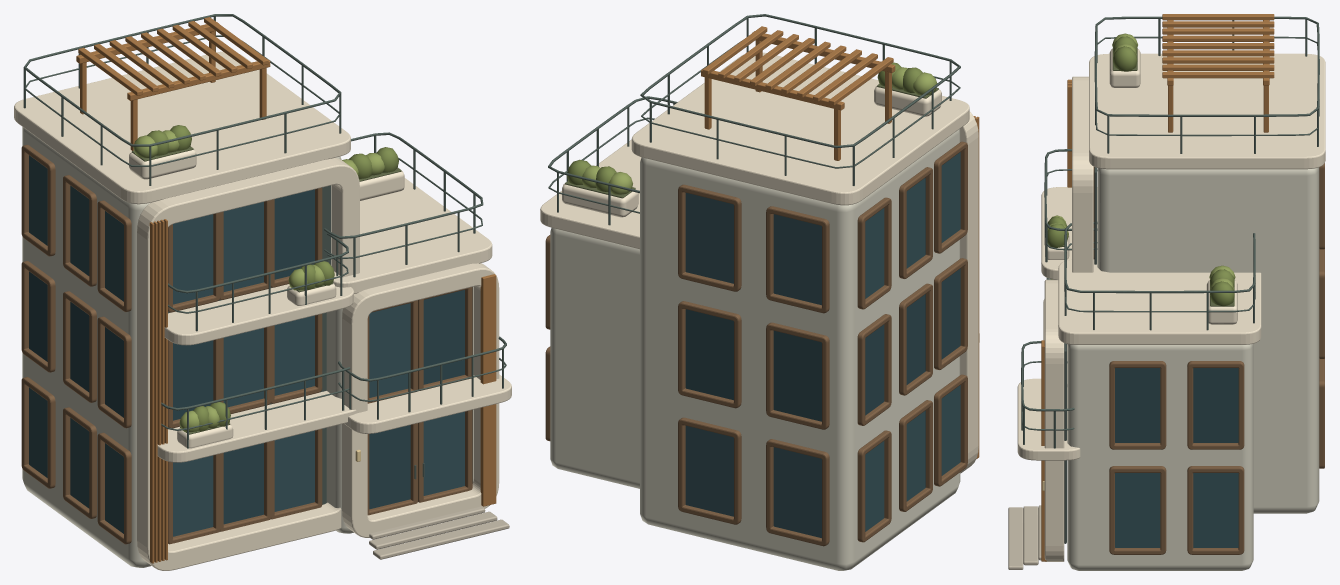
File: harbor-building.glb
The picture shows the model from 3 angles, left to right: view 1: azimuth 30°, elevation 25°; view 2: azimuth 150°, elevation 25°; view 3: azimuth 270°, elevation 25°; orthographic projection. The views are drawn at different scales.
Visible parts, largest first — view 1: building-trim, building-window-lit, building-darkWood, building-window-dark, building-wood, building-plaster, building-rail, building-step, building-leaf, building-leafLight, building-inset; view 2: building-plaster, building-trim, building-darkWood, building-window-lit, building-window-dark, building-wood, building-rail, building-leafLight, building-leaf; view 3: building-plaster, building-trim, building-darkWood, building-wood, building-window-lit, building-window-dark, building-rail, building-step, building-leaf, building-inset, building-leafLight.
Part boxes in pixels (x1,y1,x2,y2): building-trim: (14, 51, 511, 570); building-window-lit: (29, 155, 464, 536); building-darkWood: (21, 144, 472, 544); building-window-dark: (29, 189, 464, 524); building-wood: (76, 17, 496, 563); building-plaster: (22, 127, 473, 567); building-rail: (23, 14, 506, 479); building-step: (369, 506, 509, 559); building-leaf: (147, 125, 398, 431); building-leafLight: (133, 130, 384, 432); building-inset: (168, 185, 472, 504); building-plaster: (550, 129, 960, 570); building-trim: (540, 52, 979, 473); building-darkWood: (545, 141, 967, 546); building-window-lit: (685, 152, 960, 538); building-window-dark: (685, 268, 960, 421); building-wood: (701, 26, 979, 458); building-rail: (548, 14, 960, 225); building-leafLight: (582, 67, 937, 194); building-leaf: (566, 62, 922, 191); building-plaster: (1067, 167, 1319, 570); building-trim: (1017, 49, 1325, 561); building-darkWood: (1093, 163, 1324, 554); building-wood: (1041, 14, 1274, 561); building-window-lit: (1115, 473, 1238, 547); building-window-dark: (1115, 368, 1238, 442); building-rail: (1021, 16, 1319, 448); building-step: (1008, 505, 1041, 569); building-leaf: (1047, 36, 1234, 306); building-inset: (1064, 167, 1096, 543); building-leafLight: (1047, 33, 1235, 290).
Size of the model in its own units: 7.59 by 9.28 by 6.3.
